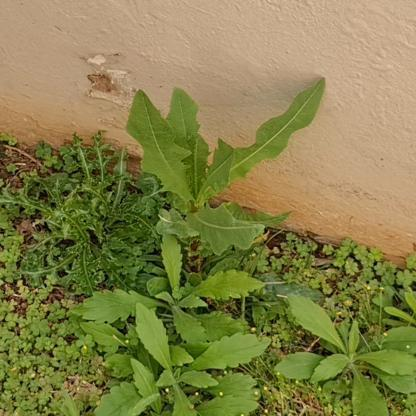Weeds: (126, 78, 316, 259), (0, 133, 164, 297), (69, 231, 267, 345), (79, 303, 273, 415), (277, 294, 415, 415)
